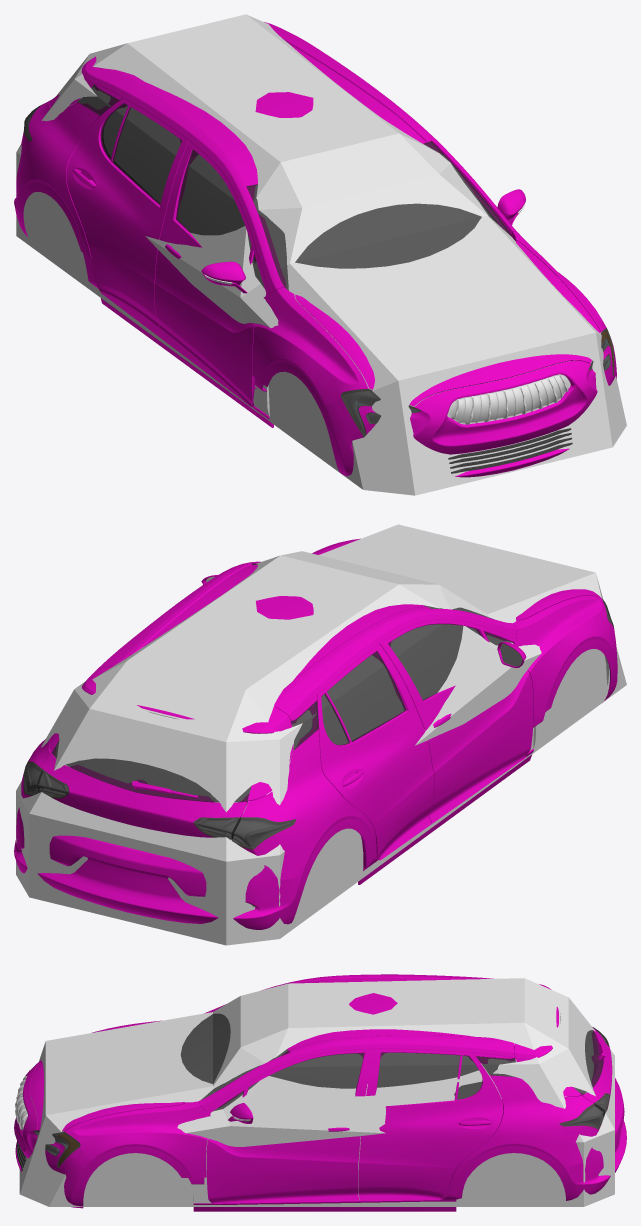
File: UCX_VR_Vivace.fbx
3 renders of one model, top to bottom at view 1: azimuth 30°, elevation 25°; view 2: azimuth 150°, elevation 25°; view 3: azimuth 270°, elevation 25°, orthographic. The views are drawn at different scales.
Parts seen in each view (by area): view 1: Vivace_Physical_Asset_Mesh, vivace_door_RR, vivace_bumper_a_F, vivace_door_FR, vivace_windshield, vivace_fender_FR, vivace_pillarpanel, vivace_quarterpanels, vivace_grille_a, vivace_doorglass_RR, vivace_hood_a, vivace_roof (+7 smaller); view 2: Vivace_Physical_Asset_Mesh, vivace_bumper_a_R, vivace_door_RR, vivace_door_FR, vivace_quarterpanels, vivace_tailgate_a, vivace_fender_FR, vivace_pillarpanel, vivace_doorglass_RR, vivace_roof, vivace_doorglass_FR, vivace_tailgateglass (+11 smaller); view 3: Vivace_Physical_Asset_Mesh, vivace_door_RL, vivace_door_FL, vivace_quarterpanels, vivace_fender_FL, vivace_pillarpanel, vivace_doorglass_RL, vivace_bumper_a_R, vivace_windshield, vivace_bumper_a_F, vivace_body, vivace_doorglass_FL (+13 smaller).
Boxes of the visible parts, x1,y1,x2,y2 form: Vivace_Physical_Asset_Mesh: [16, 14, 626, 495]; vivace_door_RR: [66, 97, 188, 333]; vivace_bumper_a_F: [321, 340, 616, 477]; vivace_door_FR: [154, 140, 255, 406]; vivace_windshield: [246, 141, 511, 290]; vivace_fender_FR: [252, 287, 368, 410]; vivace_pillarpanel: [95, 30, 515, 293]; vivace_quarterpanels: [19, 101, 100, 288]; vivace_grille_a: [447, 374, 572, 473]; vivace_doorglass_RR: [100, 103, 181, 204]; vivace_hood_a: [295, 240, 600, 406]; vivace_roof: [146, 44, 426, 185]; Vivace_Physical_Asset_Mesh: [16, 524, 626, 945]; vivace_bumper_a_R: [14, 782, 316, 929]; vivace_door_RR: [317, 643, 434, 860]; vivace_door_FR: [379, 619, 533, 823]; vivace_quarterpanels: [21, 729, 377, 868]; vivace_tailgate_a: [43, 720, 293, 837]; vivace_fender_FR: [513, 595, 609, 727]; vivace_pillarpanel: [98, 561, 516, 719]; vivace_doorglass_RR: [321, 651, 405, 745]; vivace_roof: [141, 565, 425, 681]; vivace_doorglass_FR: [388, 624, 481, 700]; vivace_tailgateglass: [51, 740, 251, 802]; Vivace_Physical_Asset_Mesh: [19, 978, 614, 1206]; vivace_door_RL: [358, 1048, 503, 1201]; vivace_door_FL: [206, 1048, 373, 1203]; vivace_quarterpanels: [442, 1052, 593, 1199]; vivace_fender_FL: [64, 1101, 207, 1184]; vivace_pillarpanel: [198, 974, 515, 1111]; vivace_doorglass_RL: [377, 1052, 482, 1099]; vivace_bumper_a_R: [544, 1078, 626, 1200]; vivace_windshield: [180, 1013, 289, 1099]; vivace_bumper_a_F: [14, 1063, 98, 1208]; vivace_body: [193, 1049, 580, 1211]; vivace_doorglass_FL: [248, 1053, 364, 1089].
Bounding box in the file's own units: 407 × 255 × 869.
